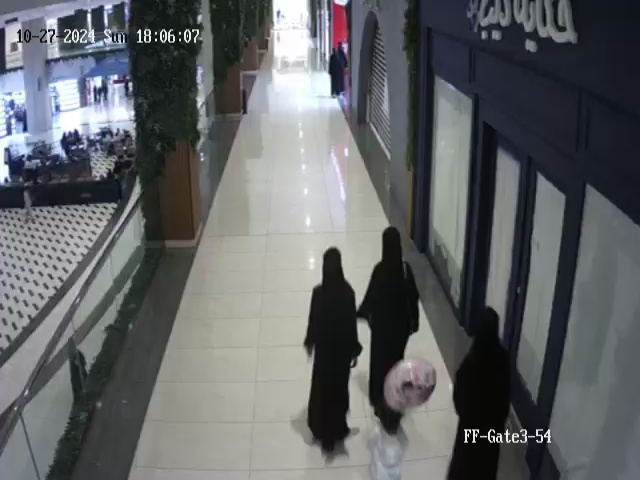female: (439, 302, 530, 480), (356, 226, 420, 436), (306, 241, 361, 448), (323, 44, 341, 101), (341, 34, 357, 91)
